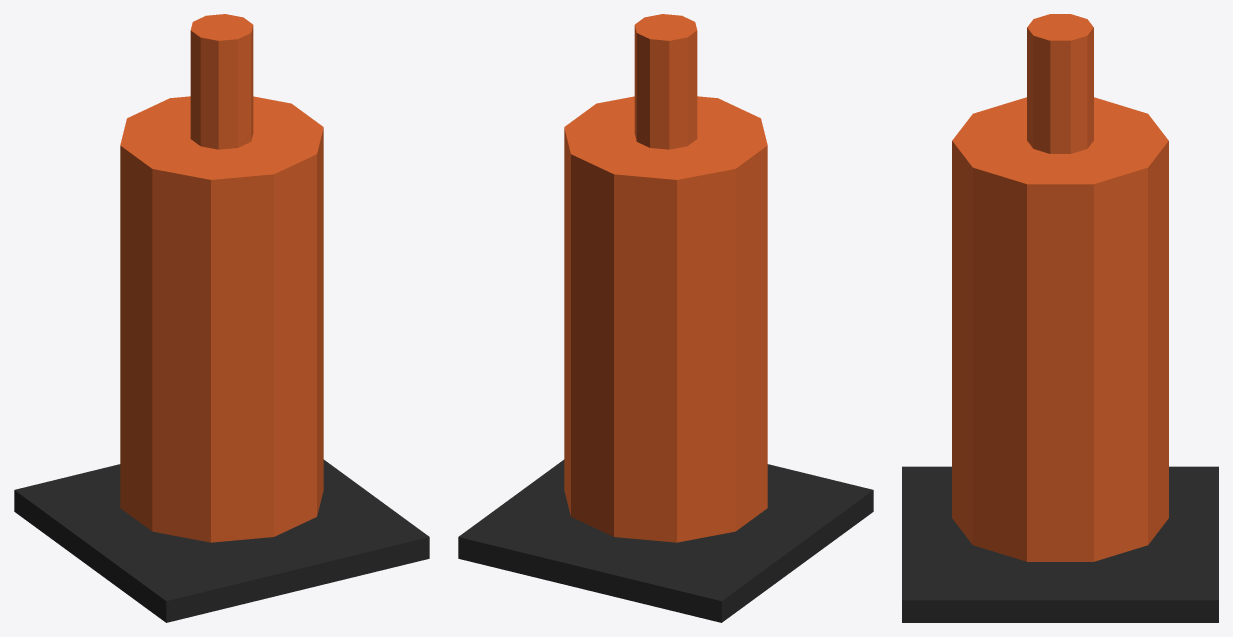
The model's file is traffic_cone.glb.
The picture shows the model from 3 angles, left to right: view 1: azimuth 30°, elevation 25°; view 2: azimuth 150°, elevation 25°; view 3: azimuth 270°, elevation 25°; orthographic projection. The views are drawn at different scales.
Visible parts, largest first — view 1: traffic_cone; view 2: traffic_cone; view 3: traffic_cone.
Boxes of the visible parts, <box> form: traffic_cone: <box>14,14,429,622</box>; traffic_cone: <box>458,14,873,622</box>; traffic_cone: <box>902,14,1218,622</box>.
Bounding box in the file's own units: 0.38 × 0.7 × 0.38.
